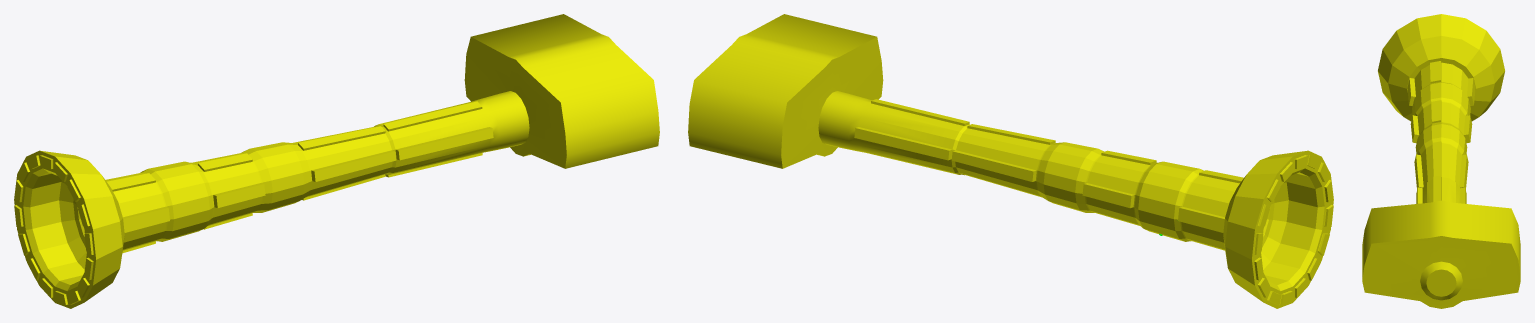
Rendered from spacestation.fbx.
3 views of the same model, side by side, from view 1: azimuth 30°, elevation 25°; view 2: azimuth 150°, elevation 25°; view 3: azimuth 270°, elevation 25° (orthographic). The views are drawn at different scales.
Parts seen in each view (by area): view 1: body; view 2: body; view 3: body.
Part boxes in pixels (x1,y1,x2,y2): body: (14, 14, 659, 308); body: (688, 14, 1333, 308); body: (1362, 14, 1520, 308).
Bounding box in the file's own units: 5070 × 1264 × 1597.
